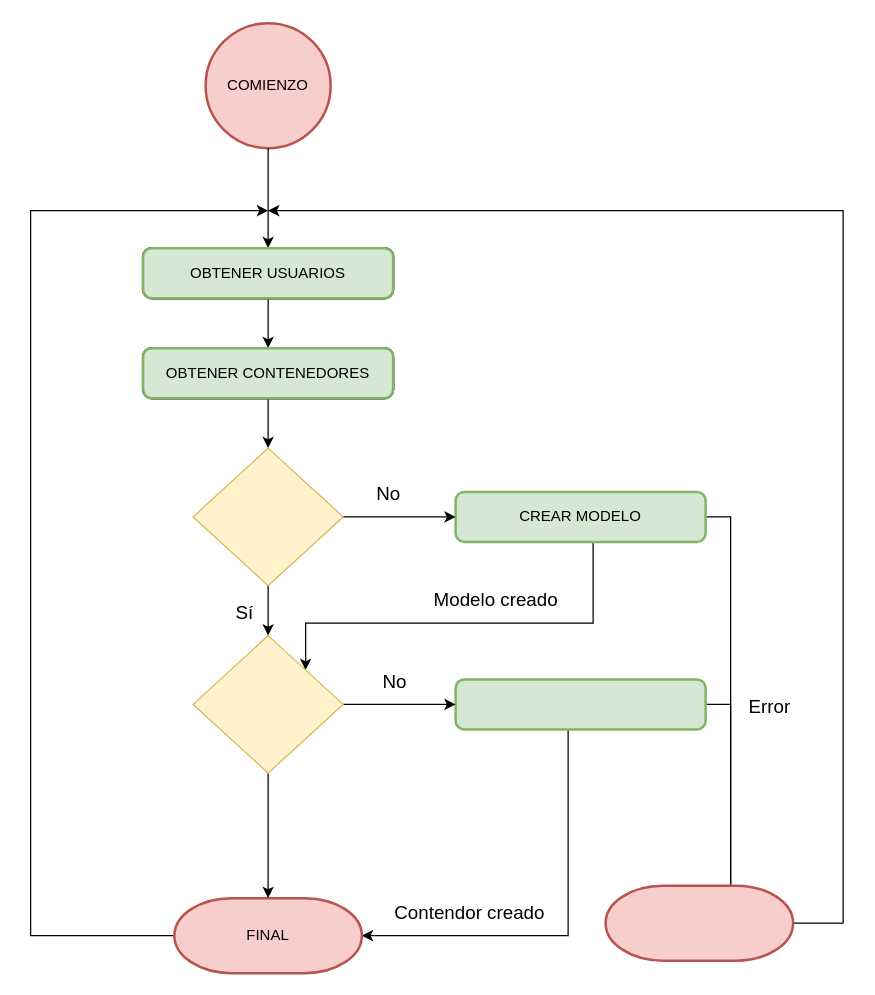
Some shapes in this 875 by 995 pixel diagram are drawn without their labels. Here are the shapes that lost their labels. From the top down, the centre of each, then its label:
At pixel 267 516: "¿El usuario tiene modelo?".
At pixel 267 703: "¿El usuario tiene contenedor?".
At pixel 580 704: "CREAR CONTENEDOR".
At pixel 699 922: "FINAL ERROR".
